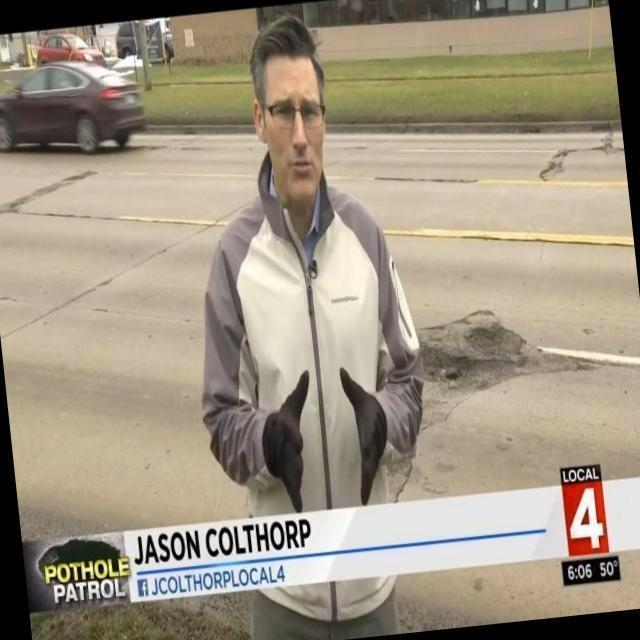pothole: (418, 310, 580, 431)
